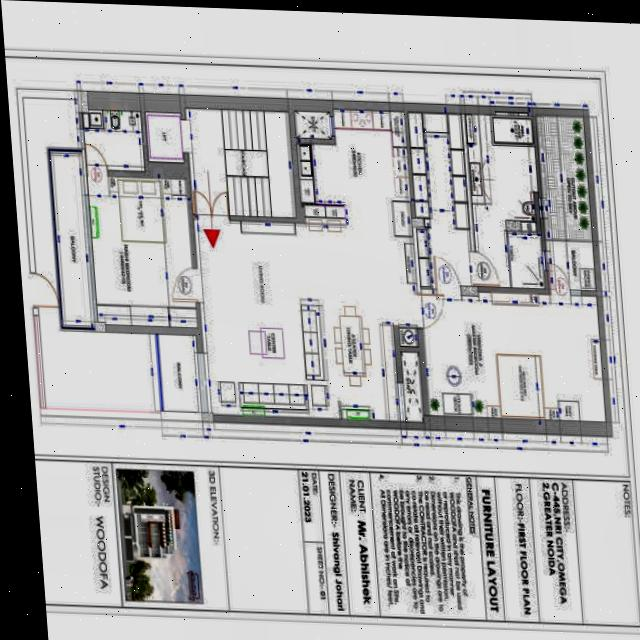room: (194, 211, 330, 428), (415, 291, 609, 422), (86, 171, 193, 333), (296, 105, 411, 245), (465, 113, 539, 286), (188, 103, 292, 222), (322, 279, 398, 426), (536, 113, 591, 245), (51, 151, 91, 326), (157, 333, 198, 423), (85, 107, 140, 174), (546, 238, 595, 294), (506, 230, 544, 292), (145, 113, 181, 164), (386, 239, 416, 291)
